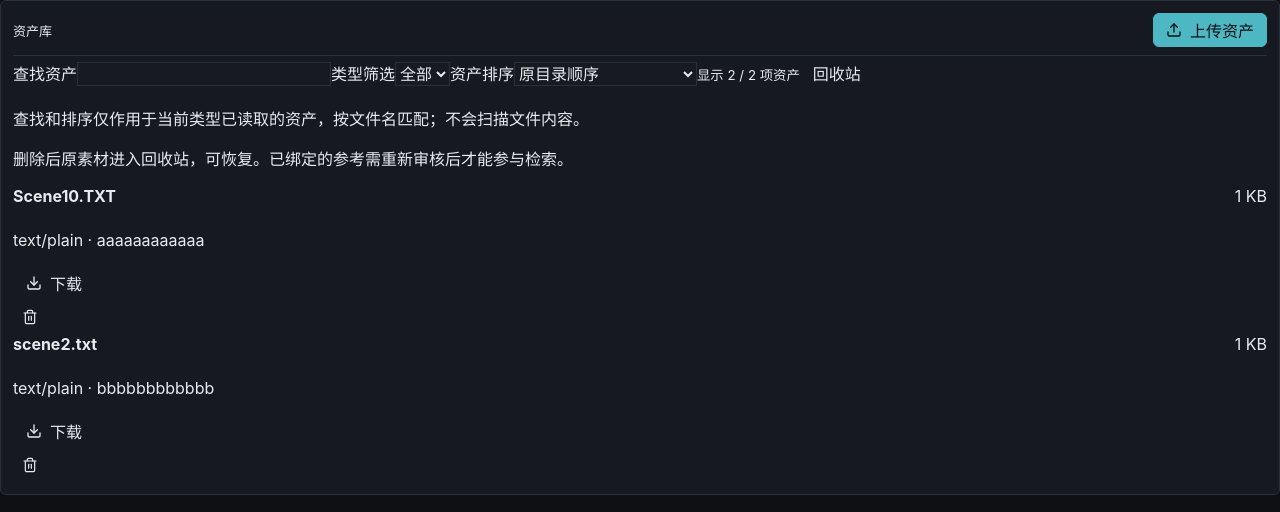
Test: uses the original file-kind API filter with character and scene constraints intact
Expected: the element named "资产 Scene10.TXT" is shown, [13,186,1267,334]
Select "文件" in the dropdown labelled "类型筛选" at (422, 74), box [395,62,450,86]
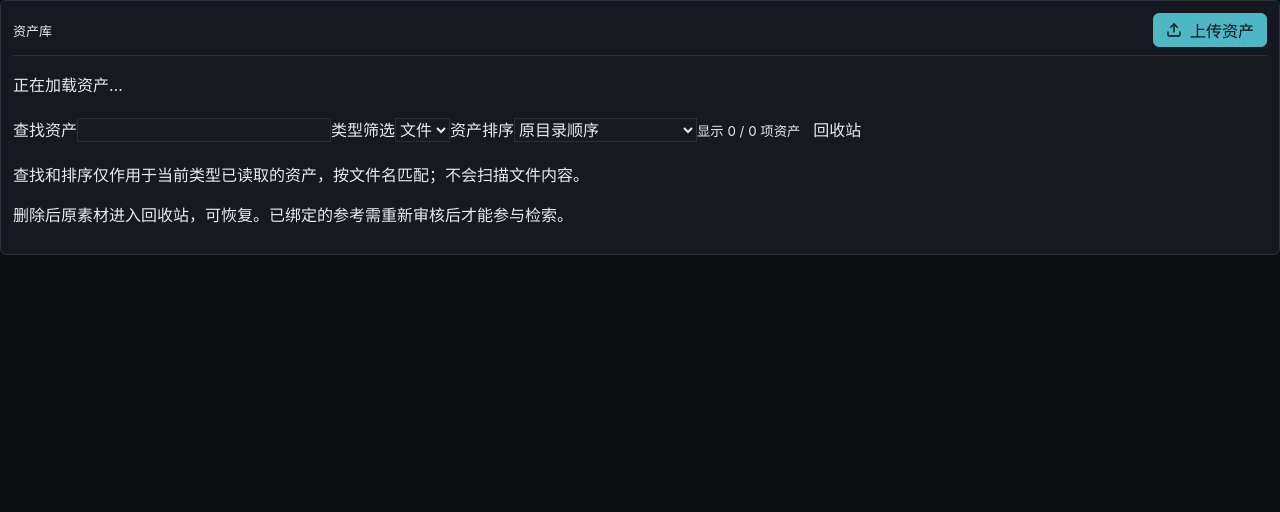
Type "missing" into the search field labelled "查找资产" at (204, 130), box [77,118,331,142]
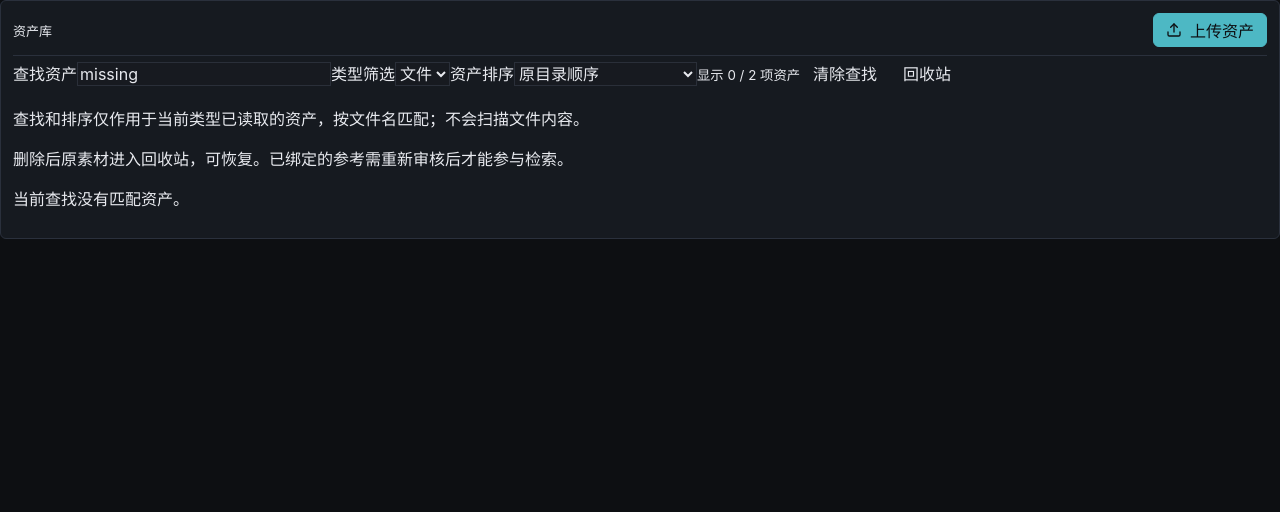
Expected: the text "当前查找没有匹配资产。" is shown, [13,189,189,209]
